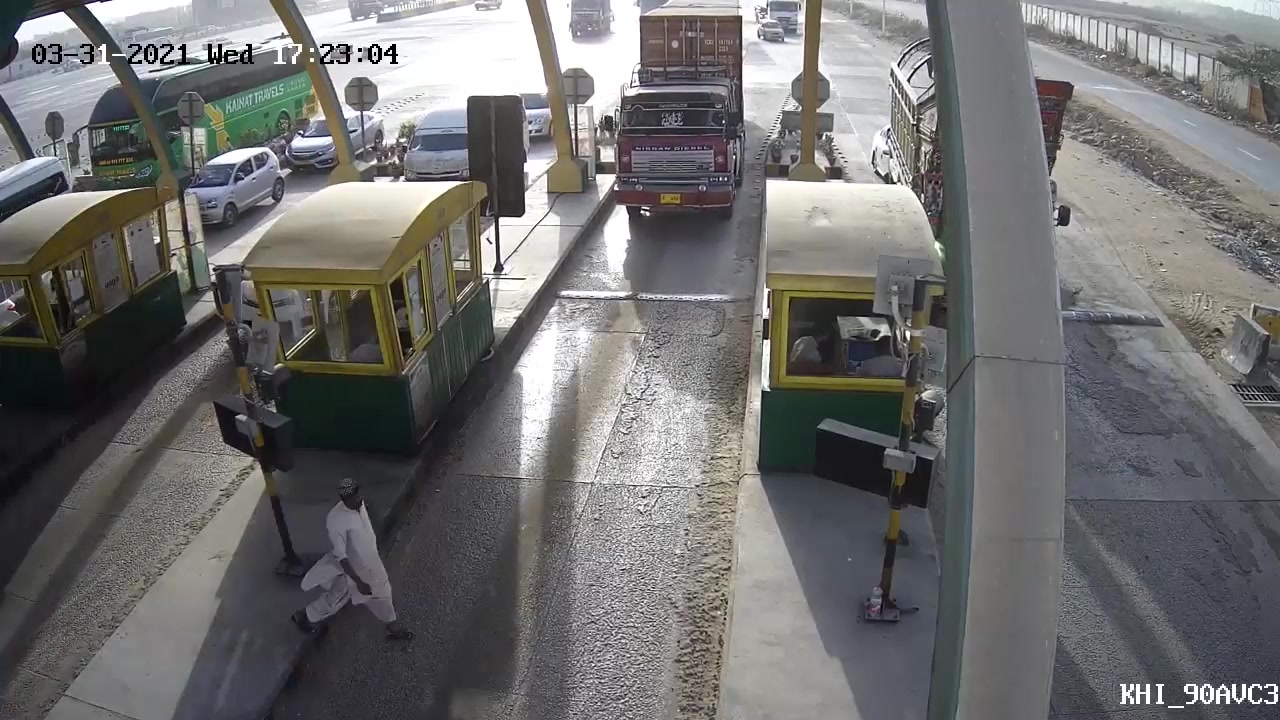F6: (605, 7, 751, 217)
